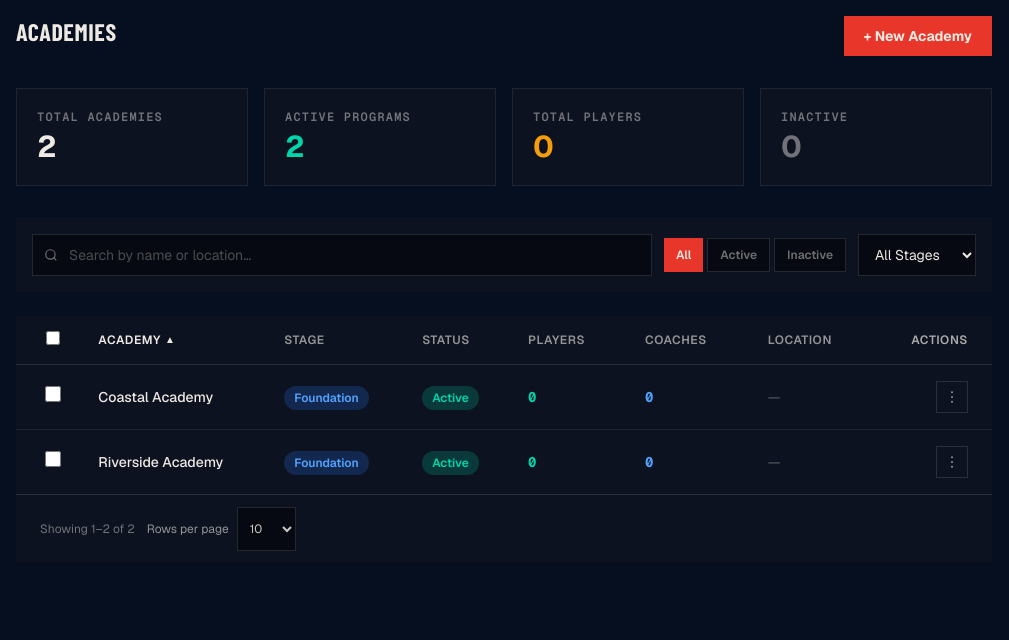
AcademyClient › selecting rows shows the bulk action bar with a live count
The width and height of the screenshot is (1009, 640).
Expected: the text "Riverside Academy" is shown, [98,453,223,471]
Expected: the text "selected" is not shown
Click the checkbox titled "Select for bulk actions" next to "Coastal Academy" at (53, 394), box [45,386,61,402]
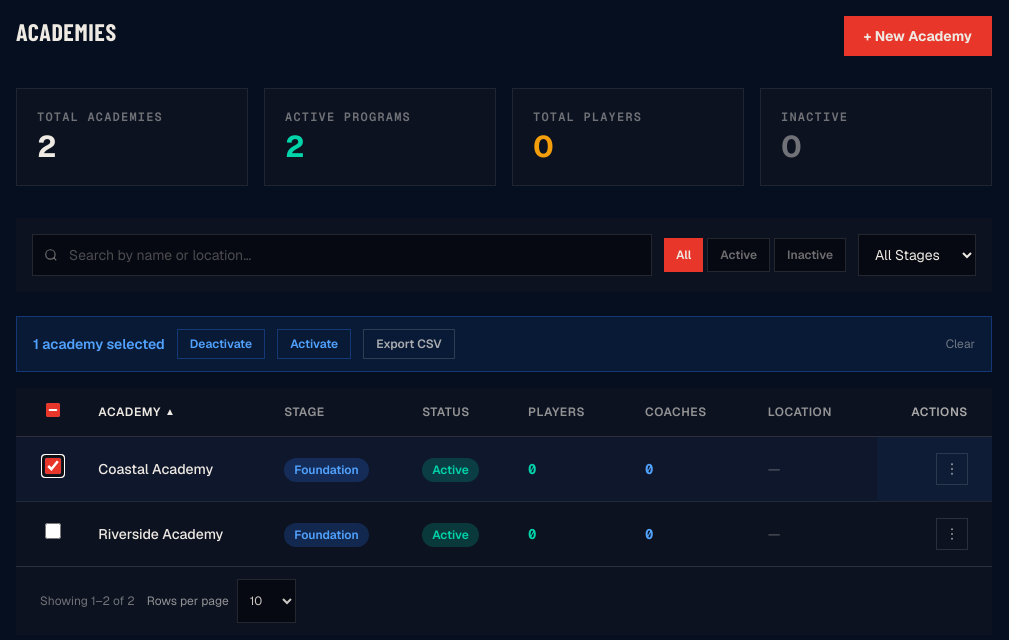
Result: the text "1 academy selected" is shown at [33,334,165,354]
Click the checkbox titled "Select for bulk actions" next to "Riverside Academy" at (53, 531), box [45,523,61,539]
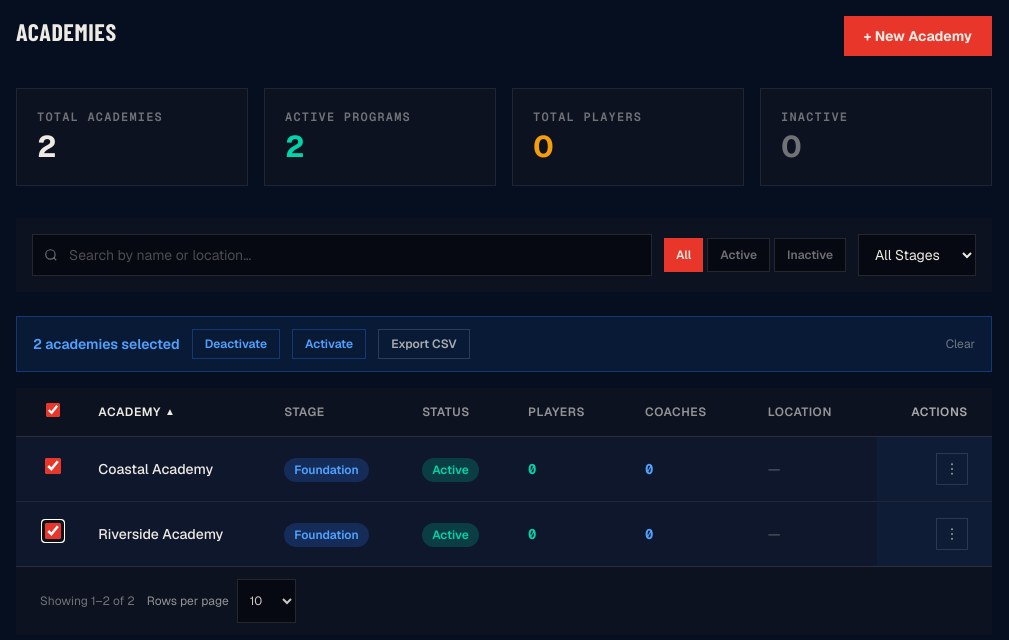
Result: the text "2 academies selected" is shown at [33,334,180,354]
Click the button "Clear" at (960, 344), box [946,336,975,352]
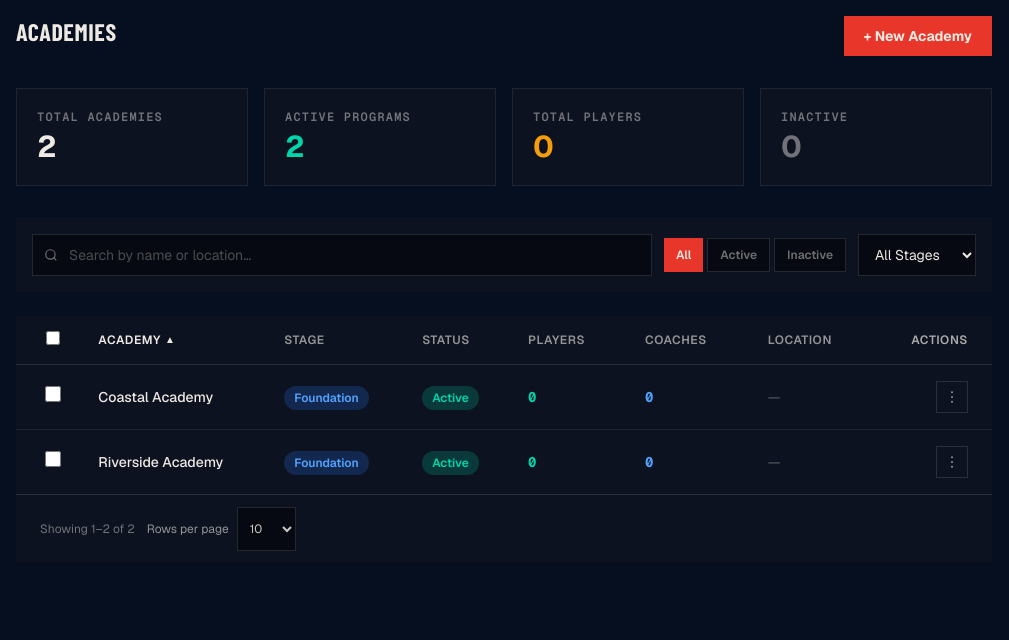
Result: the text "selected" is gone
